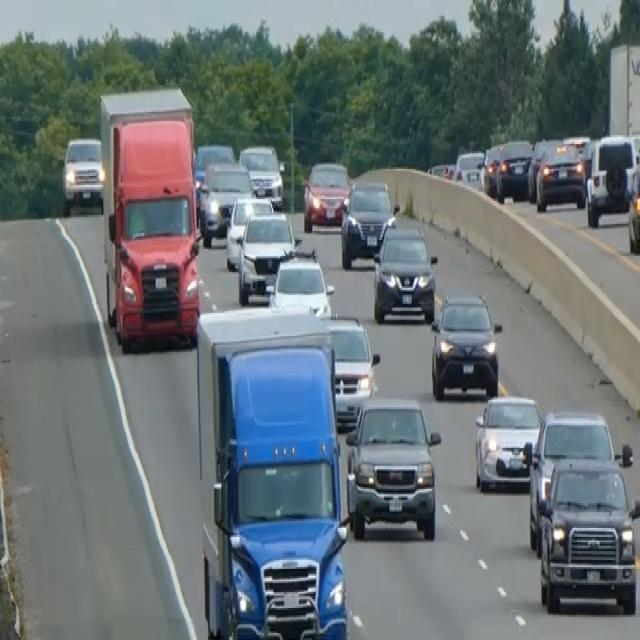car: (344, 393, 441, 540), (429, 290, 502, 400), (319, 310, 379, 430), (473, 391, 542, 493), (371, 220, 437, 324), (236, 210, 299, 304), (584, 132, 639, 226), (340, 178, 395, 268), (267, 246, 334, 316), (198, 160, 253, 245), (534, 137, 586, 211), (224, 194, 273, 270), (302, 158, 351, 231), (192, 140, 235, 217), (61, 133, 103, 210), (238, 142, 284, 206), (494, 137, 533, 203), (526, 137, 551, 201), (452, 148, 484, 190), (479, 140, 502, 196), (627, 156, 639, 255)
jeep: (537, 452, 639, 615), (525, 407, 619, 551)
lorry: (194, 304, 352, 638), (98, 84, 201, 350)
